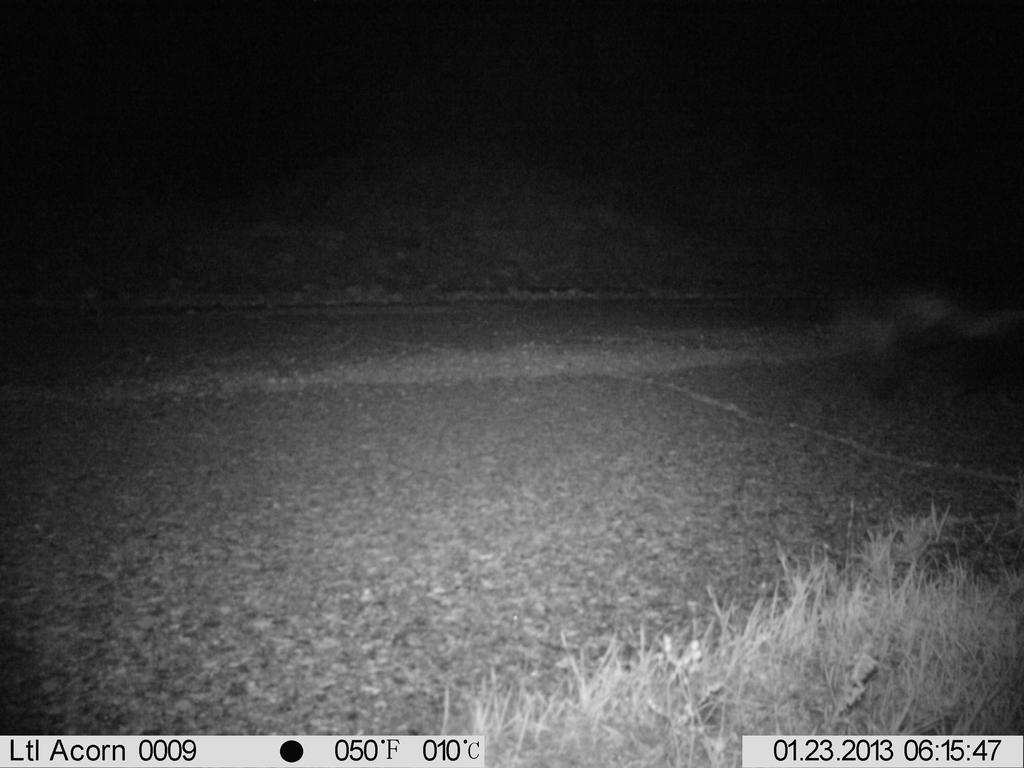skunk: (842, 274, 1024, 421)
